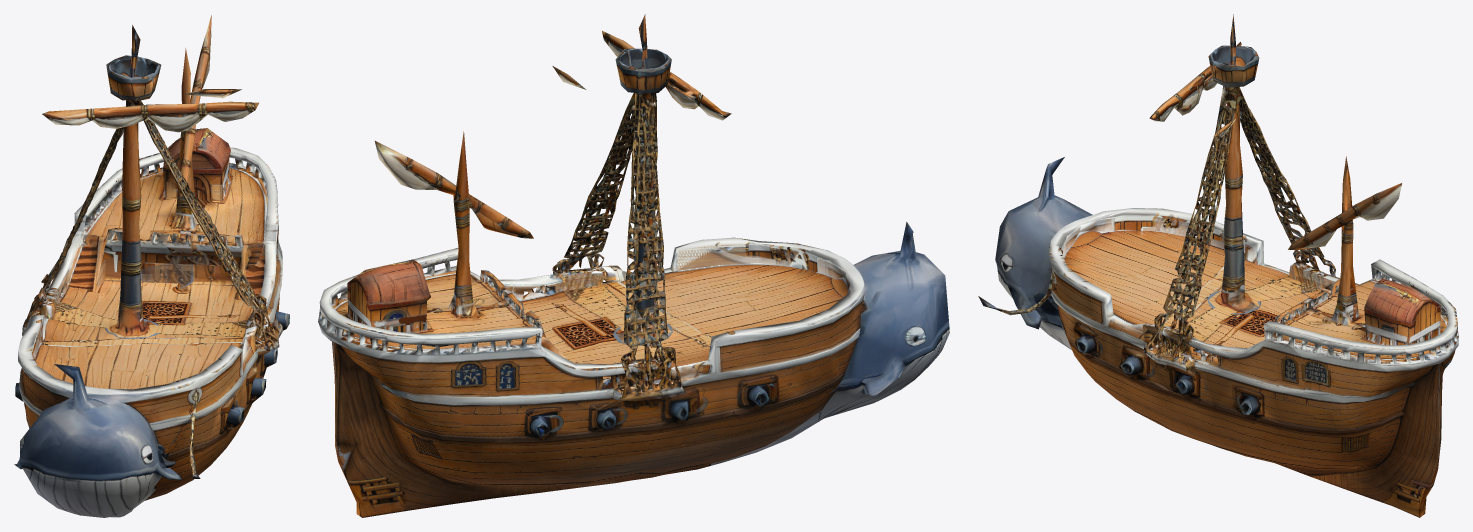
Rendered from 03_ShipDeck_BEFORE.fbx.
The picture shows the model from 3 angles, left to right: view 1: azimuth 30°, elevation 25°; view 2: azimuth 150°, elevation 25°; view 3: azimuth 270°, elevation 25°; orthographic projection. The views are drawn at different scales.
Parts seen in each view (by area): view 1: texture_mapping.003; view 2: texture_mapping.003; view 3: texture_mapping.003.
Part boxes in pixels (x1,y1,x2,y2): texture_mapping.003: (14,15,289,517); texture_mapping.003: (318,14,949,517); texture_mapping.003: (978,14,1458,517).
Size of the model in its own units: 0.9278 by 0.9684 by 0.998.
Materials: 1 (1 with a texture image).
